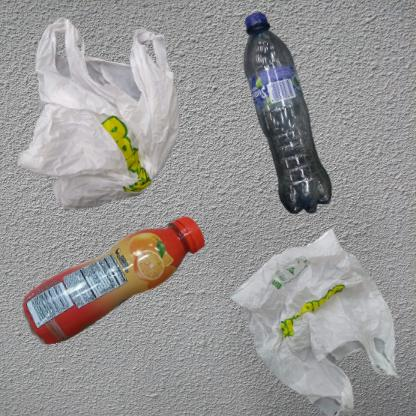bolsa: (10, 10, 204, 236), (213, 213, 416, 416)
botella: (213, 10, 371, 236), (10, 213, 243, 364)
